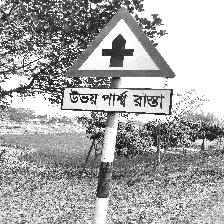Crossroad: (62, 6, 177, 122)
